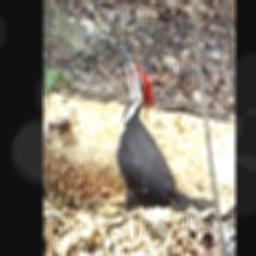Woodpecker: (116, 47, 205, 212)
